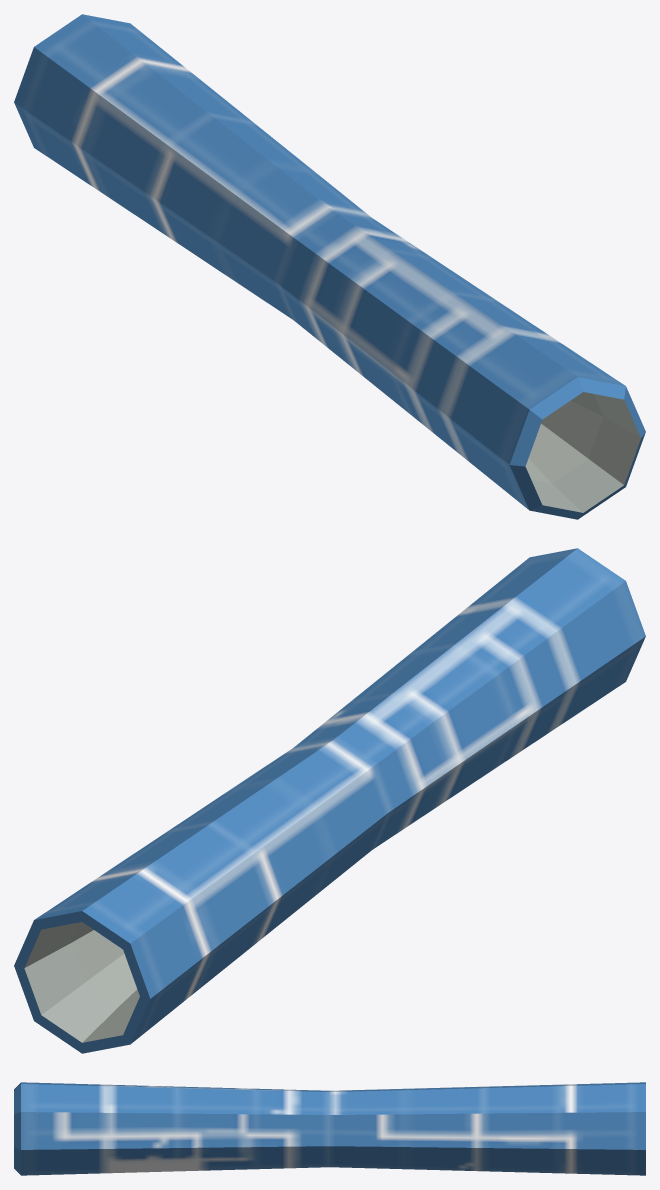
Rendered from SM_Prop_Plans_08.glb.
3 views of the same model, one above another, from view 1: azimuth 30°, elevation 25°; view 2: azimuth 150°, elevation 25°; view 3: azimuth 270°, elevation 25° (orthographic). The views are drawn at different scales.
Parts seen in each view (by area): view 1: SM_Prop_Plans_08; view 2: SM_Prop_Plans_08; view 3: SM_Prop_Plans_08.
Part boxes in pixels (x1,y1,x2,y2): SM_Prop_Plans_08: [14, 14, 645, 519]; SM_Prop_Plans_08: [14, 548, 645, 1053]; SM_Prop_Plans_08: [14, 1082, 645, 1175].
Bounding box in the file's own units: 0.1059 × 0.1059 × 0.6738.
1 material, 1 textured.
